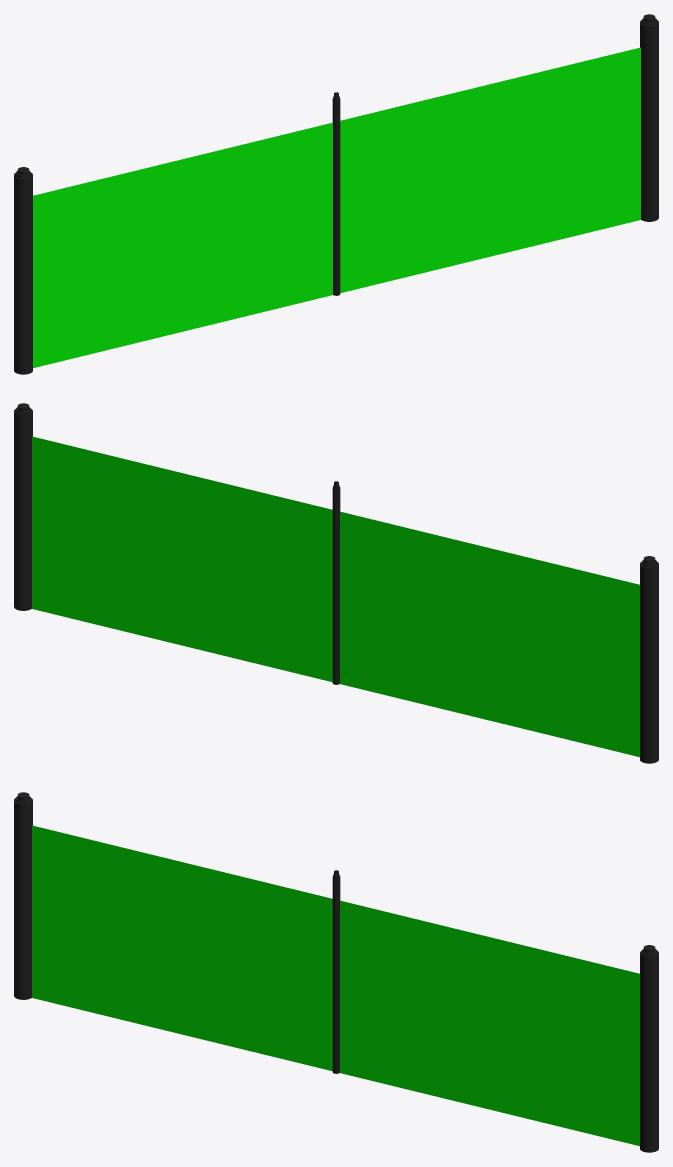
The model's file is Gate_Trigger_001.fbx.
The picture shows the model from 3 angles, top to bottom: view 1: azimuth 30°, elevation 25°; view 2: azimuth 150°, elevation 25°; view 3: azimuth 330°, elevation 25°; orthographic projection.
Parts seen in each view (by area): view 1: Trigger_Left, Trigger_Right, Pole_Sides, Pole_Middle; view 2: Trigger_Left, Trigger_Right, Pole_Sides, Pole_Middle; view 3: Trigger_Right, Trigger_Left, Pole_Sides, Pole_Middle.
Part boxes in pixels (x1,y1,x2,y2): Trigger_Left: (340,47,640,293); Trigger_Right: (33,122,332,368); Pole_Sides: (14,14,658,374); Pole_Middle: (332,92,340,295); Trigger_Left: (32,436,332,682); Trigger_Right: (340,511,639,757); Pole_Sides: (14,403,658,763); Pole_Middle: (332,481,340,684); Trigger_Right: (32,825,332,1071); Trigger_Left: (340,900,639,1146); Pole_Sides: (14,792,658,1152); Pole_Middle: (332,870,340,1073).
Size of the model in its own units: 848 by 253 by 22.
